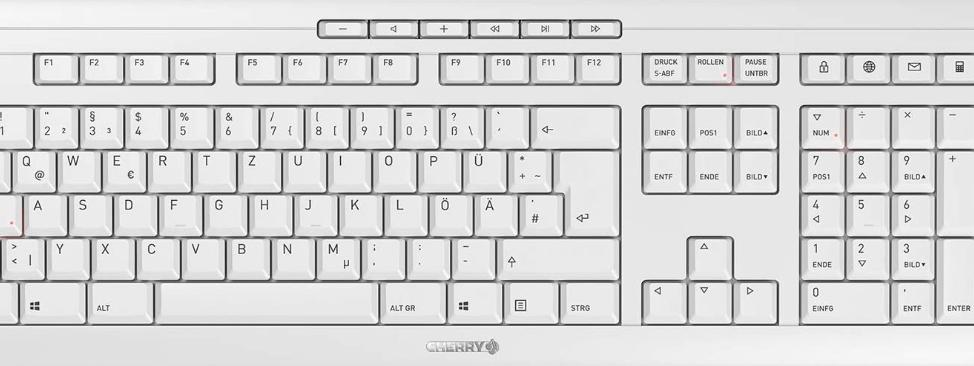0: (394, 103, 437, 146)
1: (1, 104, 31, 146)
2: (34, 104, 76, 146)
3: (79, 104, 122, 147)
4: (124, 103, 165, 147)
5: (167, 103, 211, 147)
6: (214, 103, 256, 147)
7: (260, 103, 302, 146)
8: (304, 103, 347, 147)
9: (349, 103, 392, 146)
a: (24, 192, 64, 233)
accent: (485, 103, 526, 146)
ae: (474, 191, 516, 234)
alt-left: (86, 278, 153, 322)
altgr-right: (381, 280, 448, 323)
b: (225, 234, 268, 277)
c: (136, 235, 178, 277)
caret: (1, 103, 22, 145)
comma: (361, 235, 402, 278)
d: (113, 191, 155, 233)
del: (531, 102, 618, 147)
e: (103, 147, 145, 190)
enter: (552, 145, 618, 234)
f: (159, 191, 199, 233)
g: (203, 191, 244, 233)
h: (249, 191, 291, 233)
hash: (518, 191, 561, 234)
i: (328, 147, 368, 189)
j: (293, 191, 335, 234)
k: (339, 191, 381, 233)
keyboard: (1, 1, 974, 366)
l: (384, 191, 425, 233)
less: (1, 235, 43, 276)
m: (316, 235, 359, 278)
minus: (450, 235, 492, 277)
n: (270, 235, 313, 278)
o: (371, 147, 414, 190)
oe: (428, 191, 470, 234)
p: (417, 147, 459, 190)
plus: (507, 147, 549, 190)
point: (406, 235, 447, 277)
q: (10, 147, 55, 191)
r: (147, 147, 189, 189)
s: (68, 191, 109, 233)
shift-left: (1, 235, 28, 278)
shift-lock: (1, 191, 38, 232)
shift-right: (498, 234, 617, 278)
space: (156, 279, 376, 323)
ss: (439, 103, 482, 146)
strg-left: (1, 278, 39, 323)
strg-right: (558, 279, 620, 322)
t: (193, 148, 233, 189)
tab: (1, 147, 33, 189)
u: (282, 147, 324, 190)
ue: (462, 147, 504, 190)
v: (182, 235, 222, 277)
w: (57, 147, 99, 189)
x: (91, 235, 132, 277)
y: (47, 236, 87, 277)
z: (237, 147, 278, 190)
